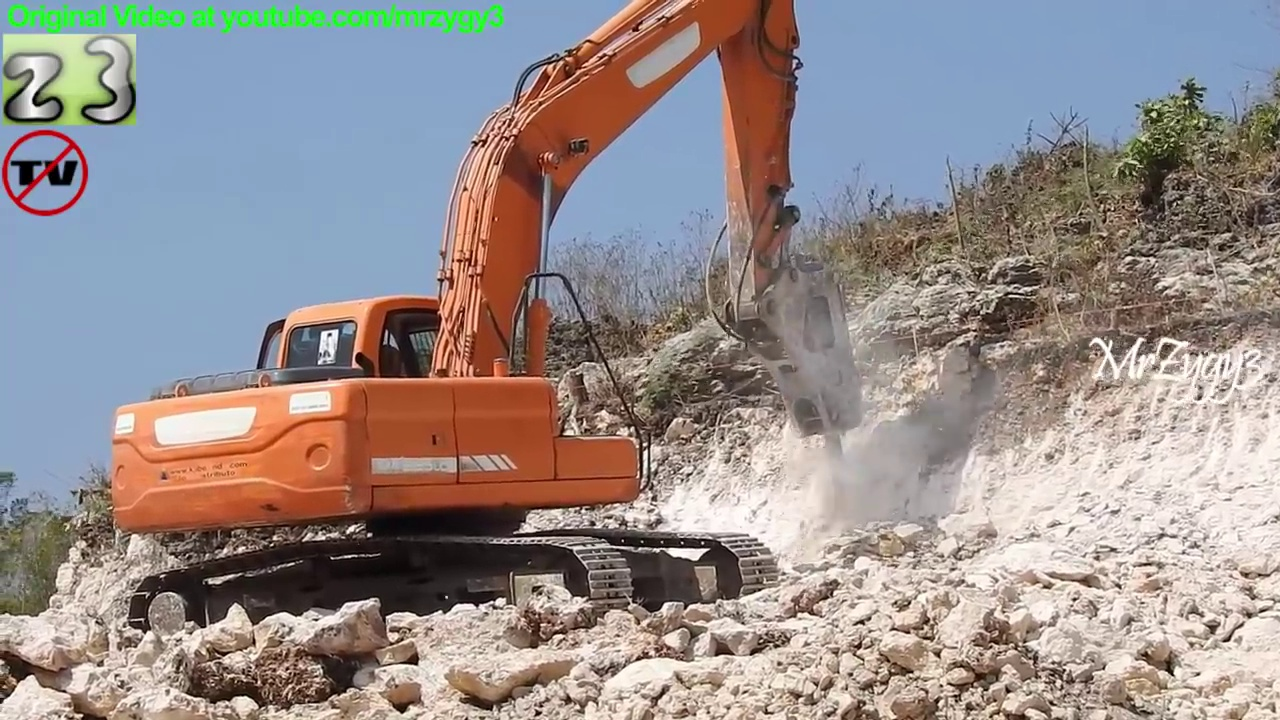excavator: (102, 1, 877, 654)
